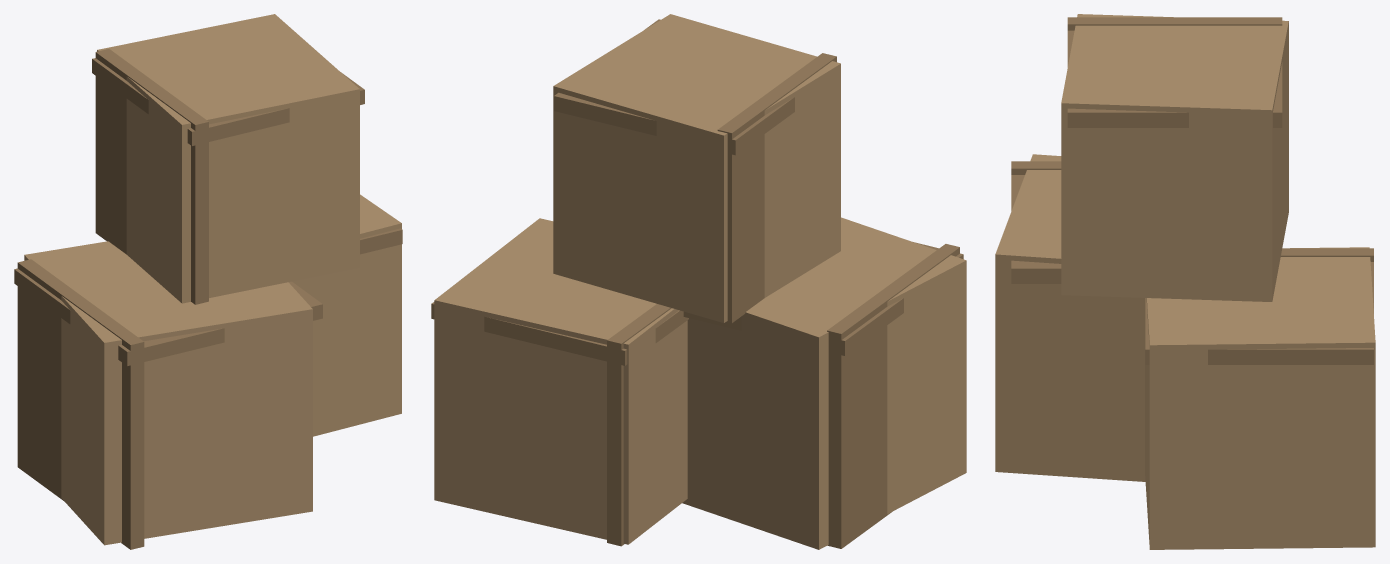
Rendered from crate_stack.glb.
3 views of the same model, side by side, from view 1: azimuth 30°, elevation 25°; view 2: azimuth 150°, elevation 25°; view 3: azimuth 270°, elevation 25° (orthographic). The views are drawn at different scales.
Visible parts, largest first — view 1: Crate_0, Crate_2, Crate_1, Slat_0b, Slat_2b, Slat_0a, Slat_2a, Slat_1a; view 2: Crate_2, Crate_1, Crate_0, Slat_0b, Slat_2b, Slat_1b, Slat_2a, Slat_1a, Slat_0a; view 3: Crate_2, Crate_1, Crate_0, Slat_1a, Slat_2a, Slat_2b, Slat_0a, Slat_1b, Slat_0b.
Boxes of the visible parts, <box> form: Crate_0: <box>24,241,312,545</box>; Crate_2: <box>97,14,359,303</box>; Crate_1: <box>292,194,401,436</box>; Slat_0b: <box>17,259,144,549</box>; Slat_2b: <box>95,49,208,304</box>; Slat_0a: <box>14,268,322,366</box>; Slat_2a: <box>92,58,364,145</box>; Slat_1a: <box>360,228,402,254</box>; Crate_2: <box>553,14,840,322</box>; Crate_1: <box>434,218,687,544</box>; Crate_0: <box>682,217,966,549</box>; Slat_0b: <box>827,244,959,548</box>; Slat_2b: <box>717,53,836,323</box>; Slat_1b: <box>607,304,671,546</box>; Slat_2a: <box>554,19,794,155</box>; Slat_1a: <box>431,302,688,365</box>; Slat_0a: <box>683,242,963,355</box>; Crate_2: <box>1061,14,1288,301</box>; Crate_1: <box>1145,247,1375,549</box>; Crate_0: <box>995,154,1145,481</box>; Slat_1a: <box>1145,262,1373,364</box>; Slat_2a: <box>1067,30,1282,127</box>; Slat_2b: <box>1067,17,1282,30</box>; Slat_0a: <box>1011,175,1061,283</box>; Slat_1b: <box>1280,248,1373,261</box>; Slat_0b: <box>1011,161,1061,174</box>.
Bounding box in the file's own units: 3.09 × 3.22 × 2.69.
